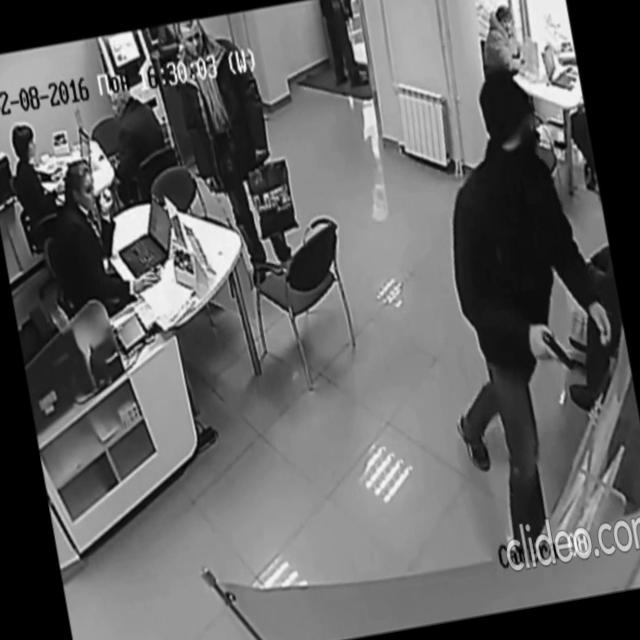gun: (525, 320, 577, 381)
person: (162, 7, 300, 300), (36, 147, 165, 320), (98, 72, 179, 212), (2, 116, 79, 256), (474, 0, 531, 87)
person with a gun: (395, 56, 640, 566)
